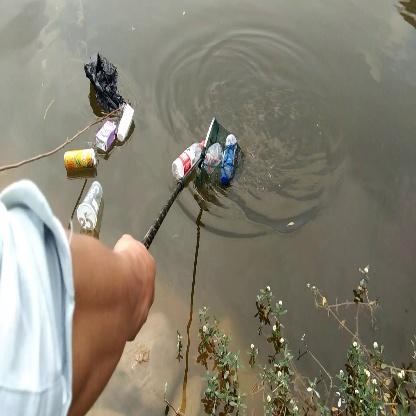bottle: (171, 139, 207, 184), (76, 180, 105, 233), (63, 147, 101, 171)
plastic-bag: (79, 50, 126, 112)
